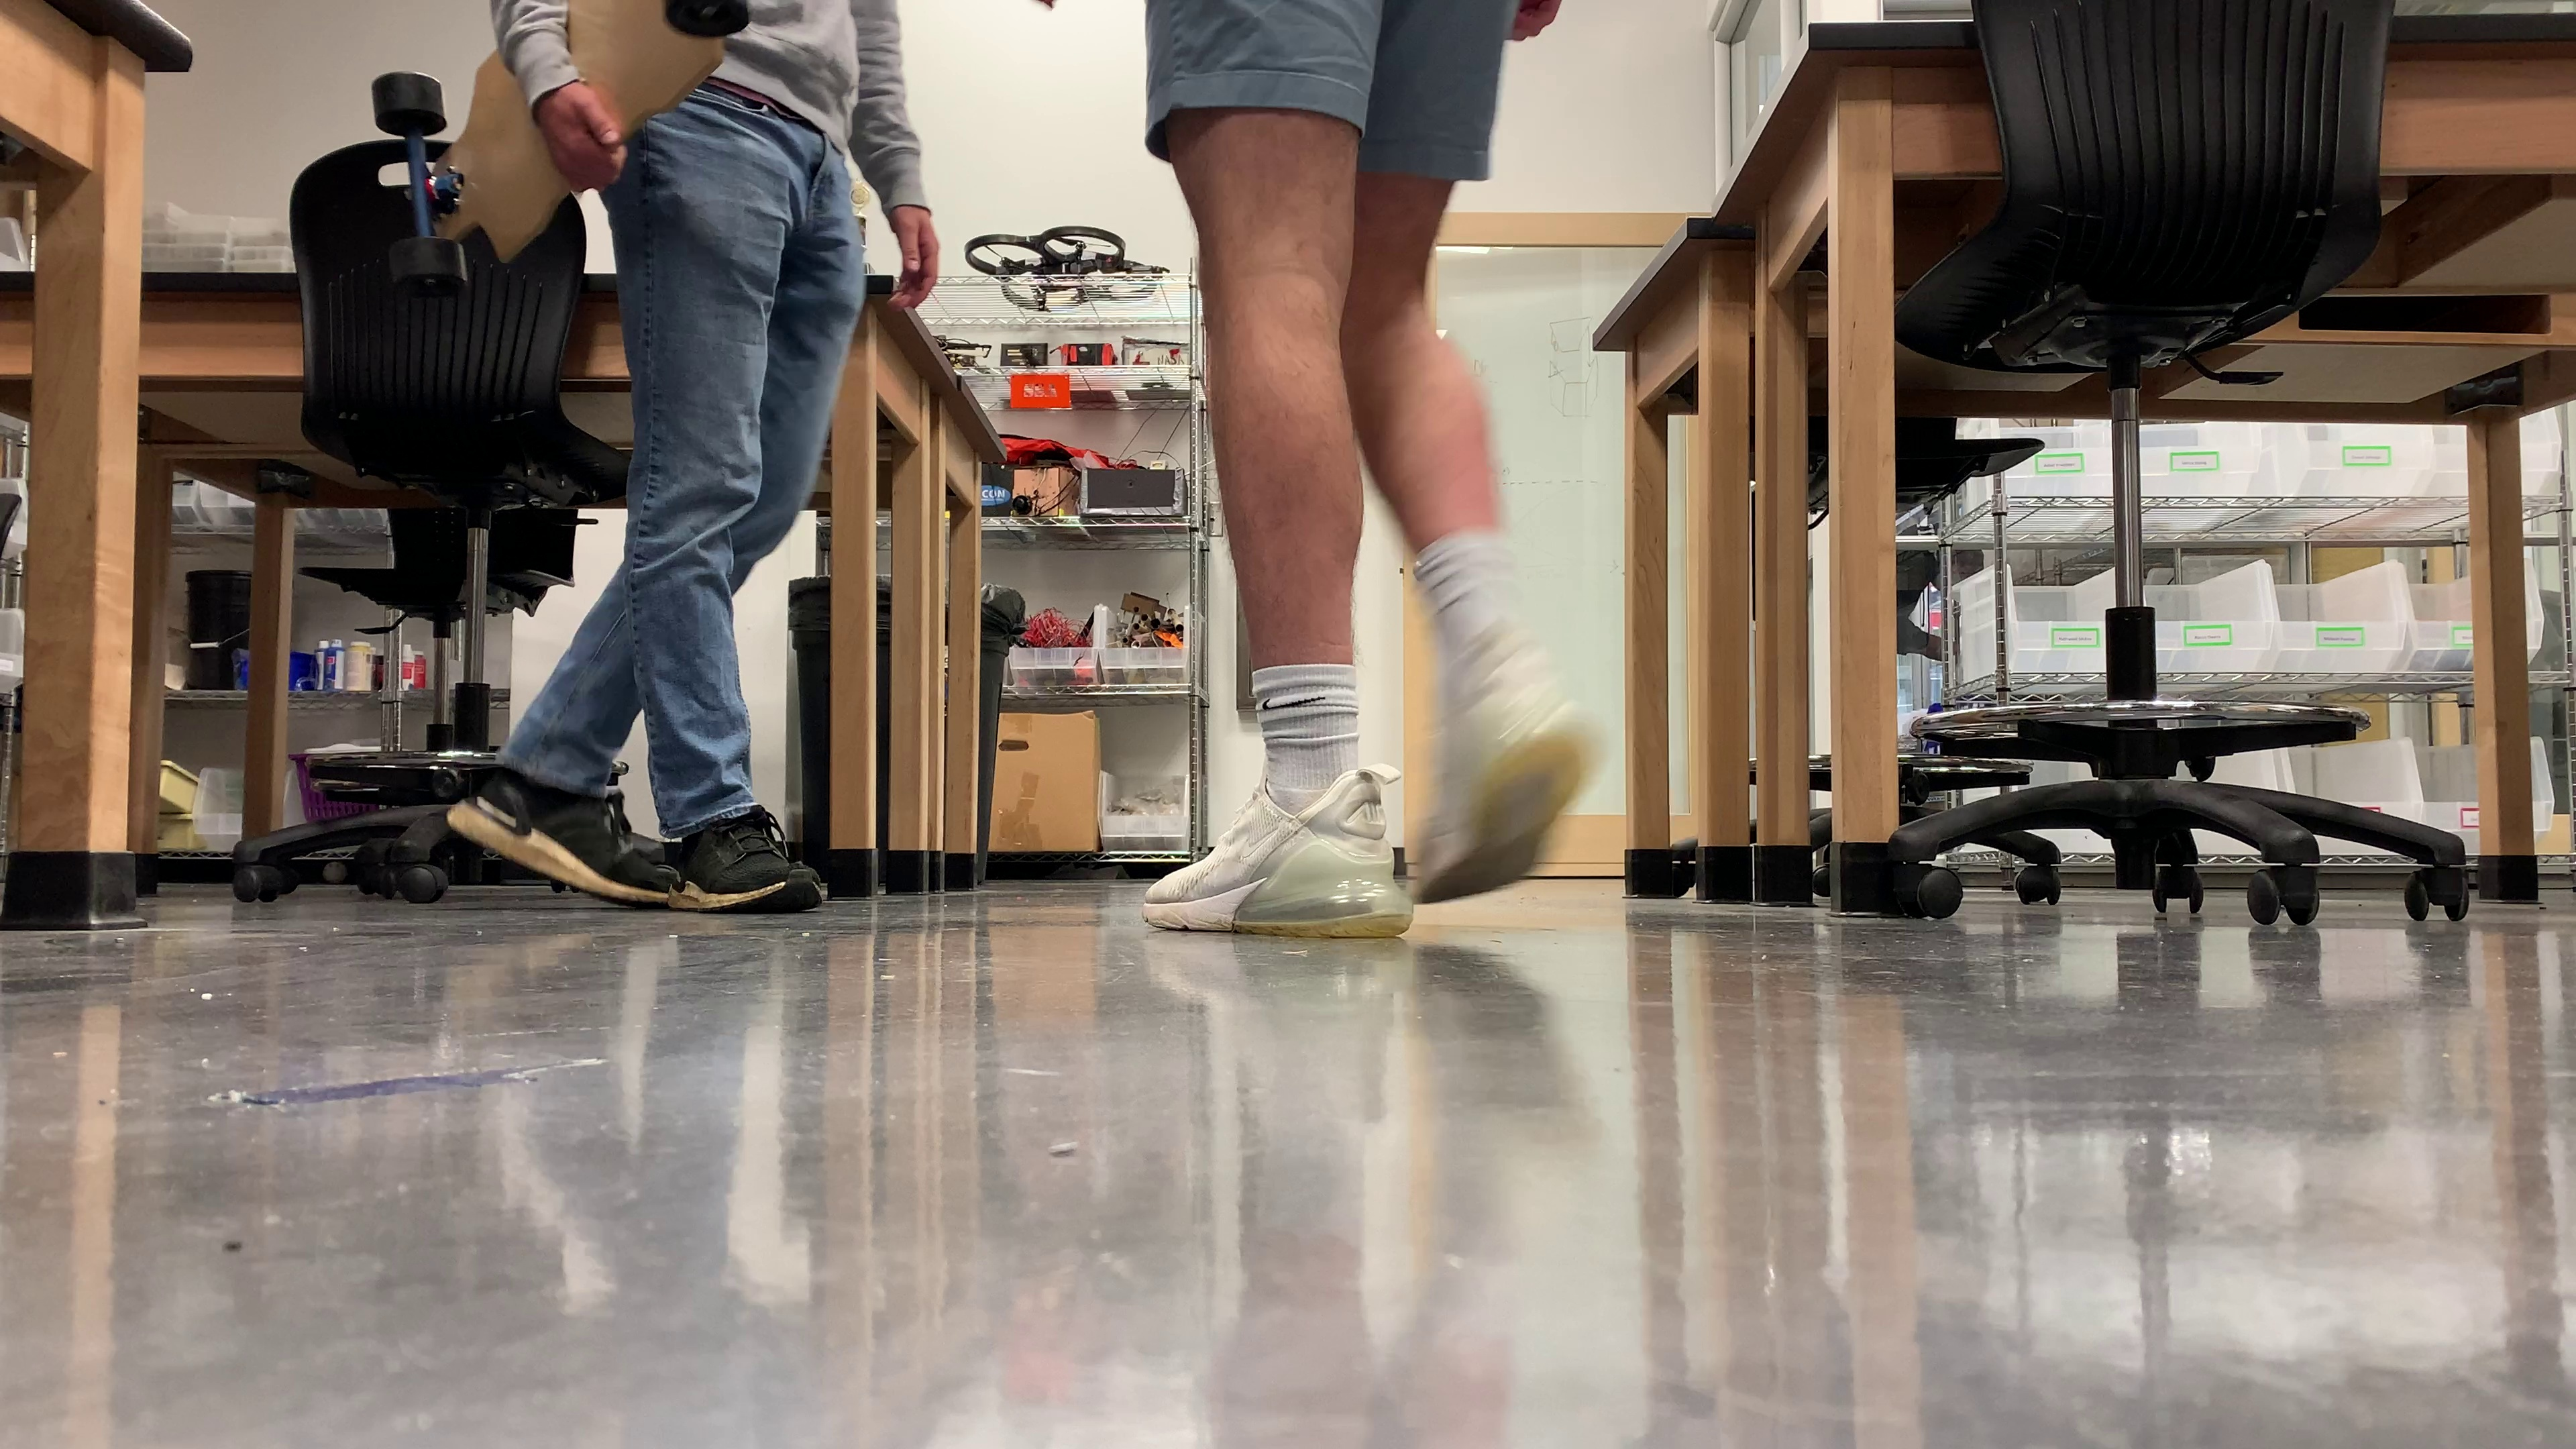shoe: (1143, 766, 1412, 941), (446, 766, 681, 901), (672, 810, 826, 916)
